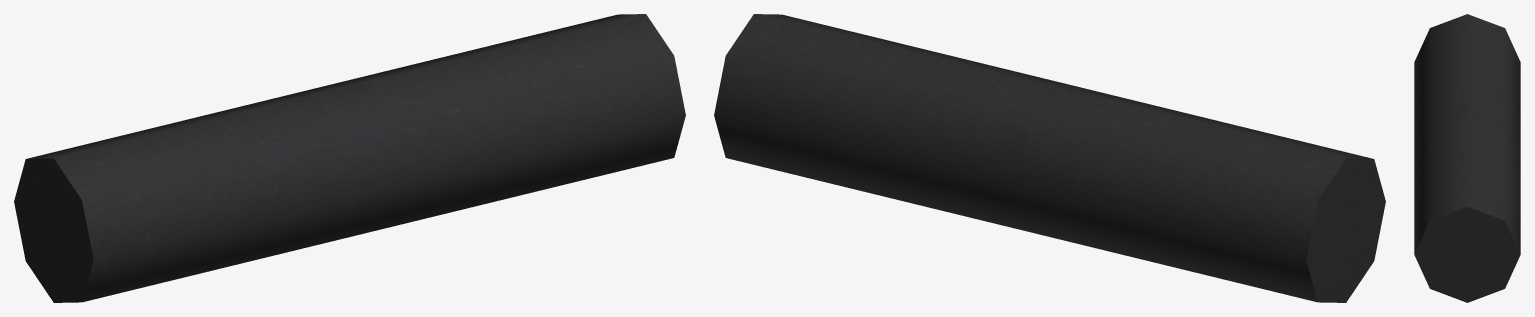
The model's file is Ejector.dae.
3 views of the same model, side by side, from view 1: azimuth 30°, elevation 25°; view 2: azimuth 150°, elevation 25°; view 3: azimuth 270°, elevation 25° (orthographic). The views are drawn at different scales.
Parts seen in each view (by area): view 1: Ejector; view 2: Ejector; view 3: Ejector.
Boxes of the visible parts, x1,y1,x2,y2 form: Ejector: (14,14,685,302); Ejector: (714,14,1385,302); Ejector: (1414,14,1520,302).
Bounding box in the file's own units: 0.0112 × 0.00261 × 0.00261.
1 material, 1 textured.
